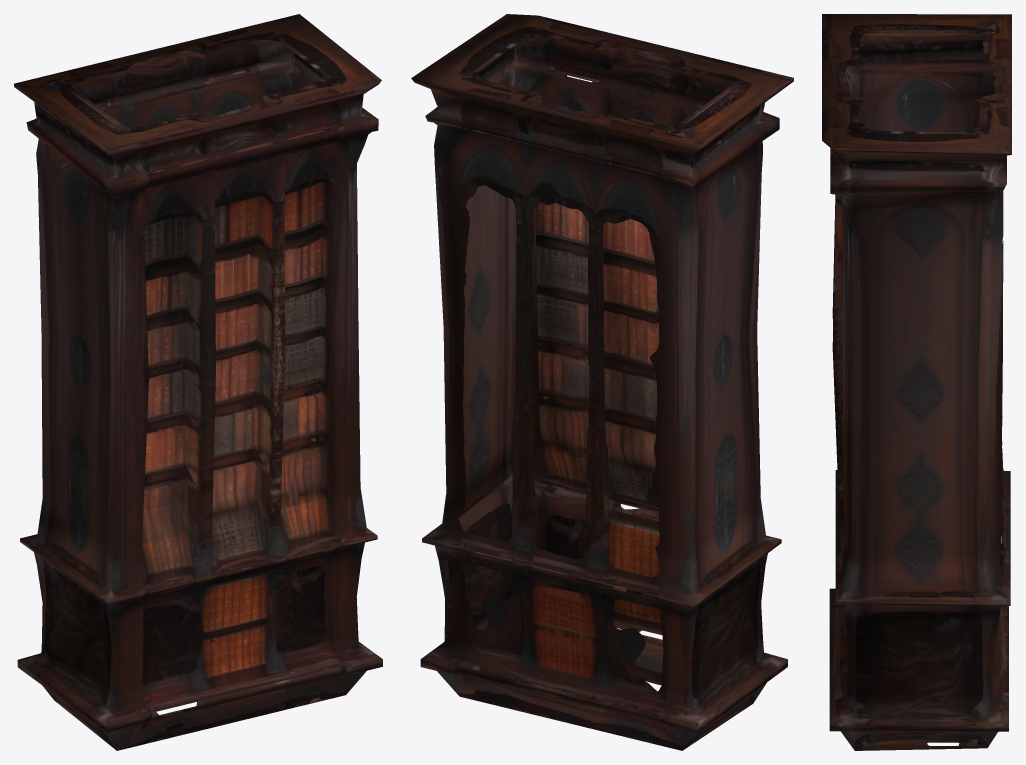
File: bookshelf1.fbx
3 renders of one model, left to right at view 1: azimuth 30°, elevation 25°; view 2: azimuth 150°, elevation 25°; view 3: azimuth 270°, elevation 25°, orthographic.
Visible parts, largest first — view 1: Plane; view 2: Plane; view 3: Plane.
Part boxes in pixels (left/top/right/bottom): Plane: left=14, top=14, right=382, bottom=750; Plane: left=411, top=14, right=793, bottom=750; Plane: left=822, top=14, right=1011, bottom=750.
Size of the model in its own units: 143 by 296 by 82.94.
Materials: 1 (1 with a texture image).
